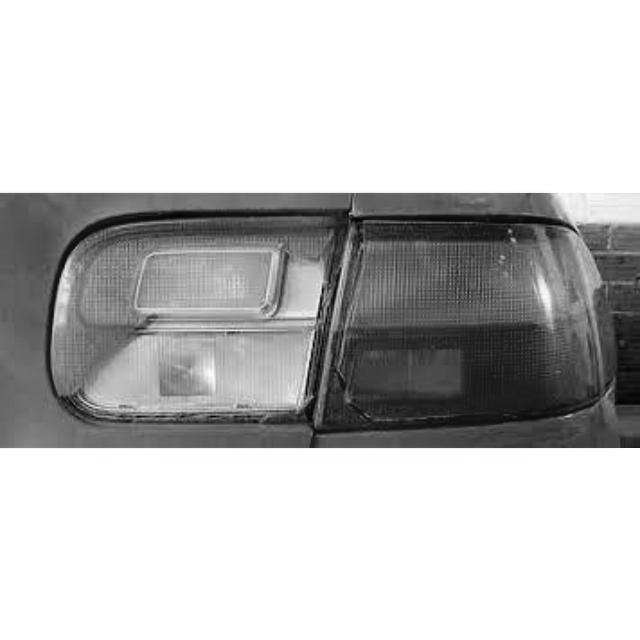Taillight-Damage: (16, 193, 638, 446)
